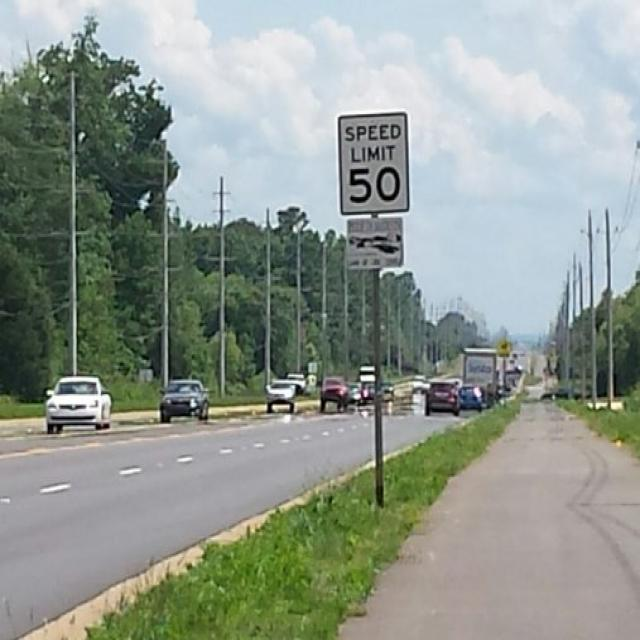speedLimit50: (340, 120, 404, 207)
